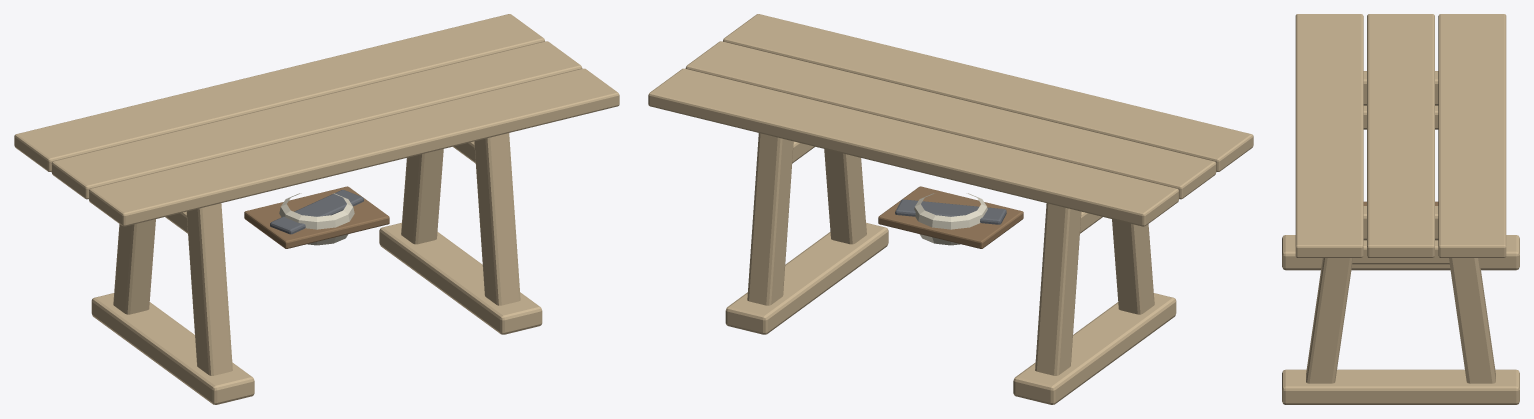
Rendered from monastery_trestle_table.glb.
3 renders of one model, left to right at view 1: azimuth 30°, elevation 25°; view 2: azimuth 150°, elevation 25°; view 3: azimuth 270°, elevation 25°, orthographic. The views are drawn at different scales.
Parts seen in each view (by area): view 1: world; view 2: world; view 3: world.
Part boxes in pixels (x1,y1,x2,y2): world: (14, 14, 619, 404); world: (648, 14, 1253, 404); world: (1282, 14, 1519, 404).
Size of the model in its own units: 2 by 0.8021 by 0.8631.
